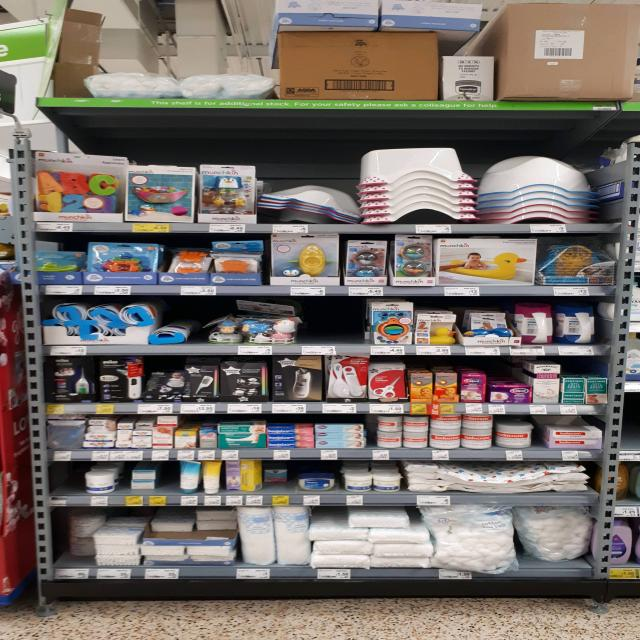empty: (302, 300, 366, 339), (157, 459, 181, 497), (55, 464, 83, 494)
